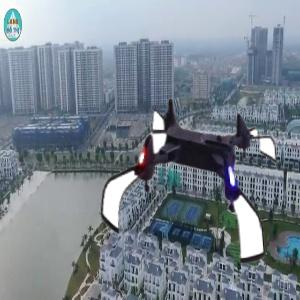drone: (95, 89, 284, 278)
